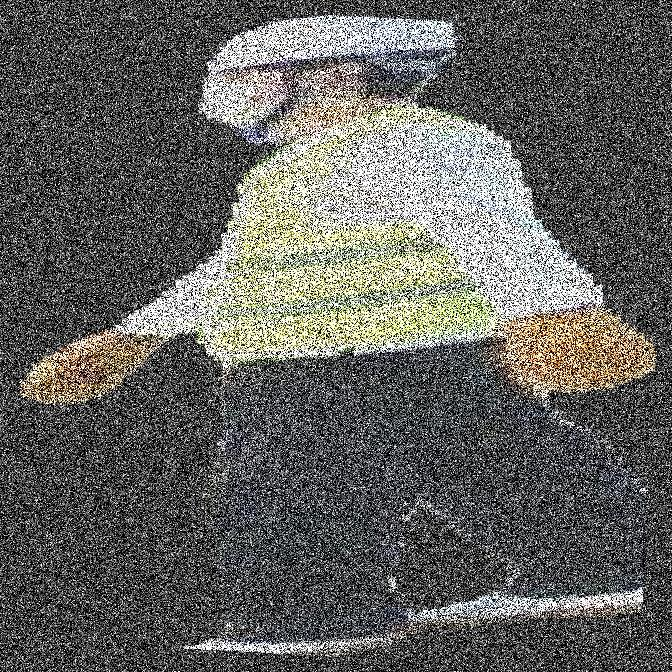Pessoa: (396, 0, 534, 671)
